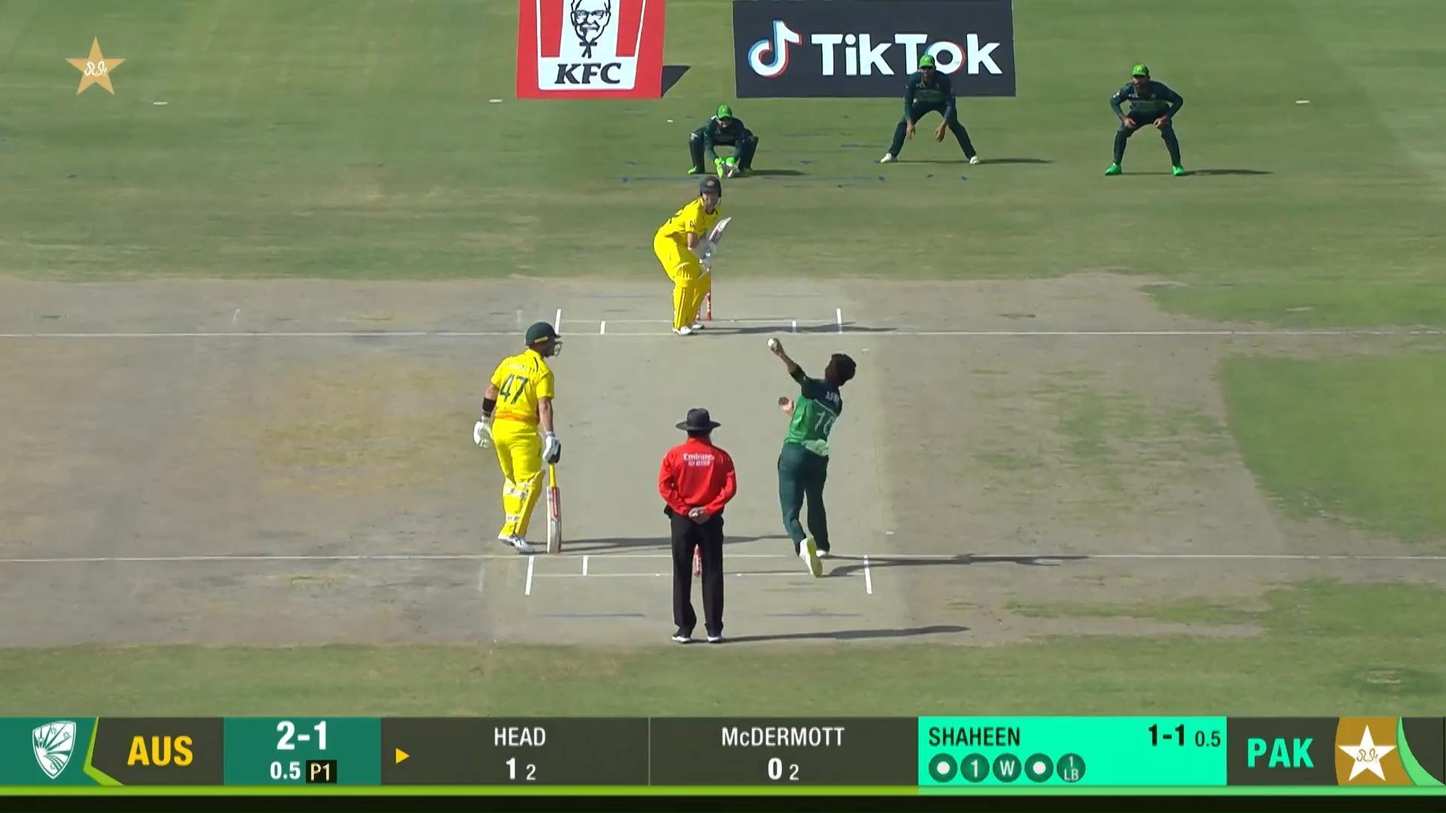BM 1: (652, 176, 734, 337)
BO: (766, 336, 857, 578)
